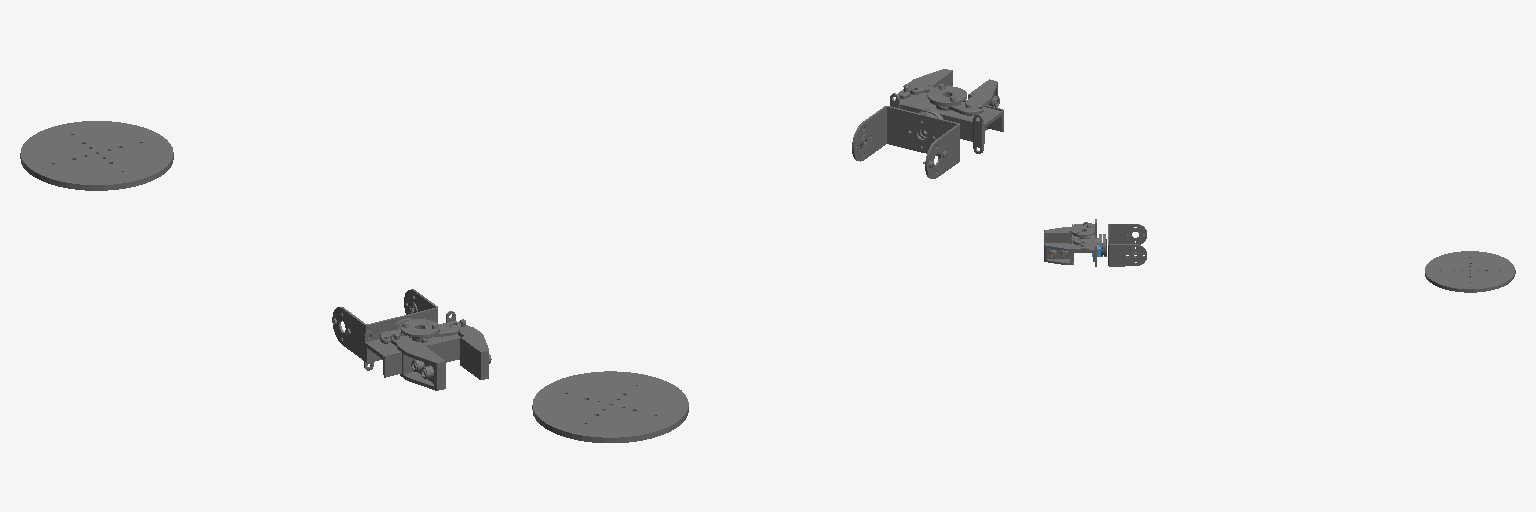
The robot description file, URDF, robot "lynxmotion_al5d":
<?xml version="1.0" ?>
<!-- =================================================================================== -->
<!-- |    This document was autogenerated by xacro from [local-path]/ws_moveit/src/lynxmotion_al5d_description/urdf/lynxmotion_al5d.xacro | -->
<!-- |    EDITING THIS FILE BY HAND IS NOT RECOMMENDED                                 | -->
<!-- =================================================================================== -->
<robot name="lynxmotion_al5d">
    <!-- Include materials -->
    <material name="Black">
        <color rgba="0.0 0.0 0.0 1.0" />
    </material>
    <material name="Green">
        <color rgba="0.0 1.0 0.0 1.0" />
    </material>
    <material name="white">
        <color rgba="1 1 1 1" />
    </material>
    <material name="Silver">
        <color rgba="0.8 0.8 0.8 1" />
    </material>
    <material name="BlueGrey">
        <color rgba="0.004 0.34 0.61 1.0" />
    </material>
    <material name="Transparent">
        <color rgba="0.0 0.0 0.0 0.0" />
    </material>
    <!-- Base link comprising the board behind the robot and the cylinder at its bottom -->
    <link name="robot_support">
        <visual>
            <geometry>
                <mesh filename="package://lynxmotion_al5d_description/meshes/robot_parts/support.dae" />
            </geometry>
            <origin rpy="0 0 0" xyz="0 0 0" />
        </visual>
        <collision>
            <geometry>
                <mesh filename="package://lynxmotion_al5d_description/meshes/robot_parts/support.dae" />
            </geometry>
            <origin rpy="0 0 0" xyz="0 0 0" />
        </collision>
        <inertial>
            <origin rpy="0 0 0" xyz="0.000585 0.0602746 0.0170628" />
            <mass value="23" />
            <inertia ixx="3.6565e-07" ixy="-3.72e-09" ixz="1e-06" iyy="9.404e-08" iyz="4.375e-08" izz="4.1776e-07" />
        </inertial>
    </link>
    <gazebo reference="robot_support" />
    <link name="robot_base_cylinder">
        <visual>
            <geometry>
                <mesh filename="package://lynxmotion_al5d_description/meshes/robot_parts/rotation_cylinder.dae" />
            </geometry>
            <origin rpy="0 0 0" xyz="0 -0.021 0" />
        </visual>
        <collision>
            <geometry>
                <mesh filename="package://lynxmotion_al5d_description/meshes/robot_parts/rotation_cylinder.dae" />
            </geometry>
            <origin rpy="0 0 0" xyz="0 -0.021 0" />
        </collision>
        <inertial>
            <mass value="0.01" />
            <inertia ixx="1.0" ixy="0.0" ixz="0.0" iyy="0.5" iyz="0.0" izz="1.0" />
            <origin xyz="0 0 0" rpy="0 0 0" />
        </inertial>
    </link>
    <gazebo reference="robot_base_cylinder" />
    <link name="robot_base_top_box">
        <visual>
            <geometry>
                <mesh filename="package://lynxmotion_al5d_description/meshes/robot_parts/top_box.dae" />
            </geometry>
            <origin rpy="0 0 3.14159" xyz="-0.01 0.03 0" />
        </visual>
        <collision>
            <geometry>
                <mesh filename="package://lynxmotion_al5d_description/meshes/robot_parts/top_box.dae" />
            </geometry>
            <origin rpy="0 0 3.14159" xyz="-0.01 0.03 0" />
        </collision>
        <inertial>
            <mass value="1" />
            <inertia ixx="1.0" ixy="0.0" ixz="0.0" iyy="0.5" iyz="0.0" izz="1.0" />
            <origin xyz="0 0 0" rpy="0 0 0" />
        </inertial>
    </link>
    <gazebo reference="robot_base_top_box" />
    <link name="shoulder">
        <visual>
            <geometry>
                <mesh filename="package://lynxmotion_al5d_description/meshes/robot_parts/shoulder.dae" />
            </geometry>
            <origin rpy="-1.96349375 0 0" xyz="0.005 -0.0625 0.036" />
        </visual>
        <collision>
            <geometry>
                <mesh filename="package://lynxmotion_al5d_description/meshes/robot_parts/shoulder.dae" />
            </geometry>
            <origin rpy="-1.96349375 0 0" xyz="0.005 -0.0625 0.036" />
        </collision>
        <inertial>
            <mass value="0.5" />
            <inertia ixx="1.0" ixy="0.0" ixz="0.0" iyy="0.5" iyz="0.0" izz="1.0" />
            <origin xyz="0 0 0" rpy="0 0 0" />
        </inertial>
    </link>
    <gazebo reference="shoulder" />
    <link name="elbow">
        <visual>
            <geometry>
                <mesh filename="package://lynxmotion_al5d_description/meshes/robot_parts/elbow.dae" />
            </geometry>
            <origin rpy="-4.03659 3.14159 0" xyz="-0.006 0.13 -0.16399999999999998" />
        </visual>
        <collision>
            <geometry>
                <mesh filename="package://lynxmotion_al5d_description/meshes/robot_parts/elbow.dae" />
            </geometry>
            <origin rpy="-4.03659 3.14159 0" xyz="-0.005 0.135 -0.16599999999999998 " />
        </collision>
        <inertial>
            <mass value="0.16" />
            <inertia ixx="1.0" ixy="0.0" ixz="0.0" iyy="0.5" iyz="0.0" izz="1.0" />
            <origin xyz="0 0 0" rpy="0 0 0" />
        </inertial>
    </link>
    <gazebo reference="elbow" />
    <link name="wrist">
        <visual>
            <geometry>
                <mesh filename="package://lynxmotion_al5d_description/meshes/robot_parts/wrist.dae" />
            </geometry>
            <origin rpy="3.14159 0 0" xyz="0.005 -0.165 0.0695" />
        </visual>
        <collision>
            <geometry>
                <mesh filename="package://lynxmotion_al5d_description/meshes/robot_parts/wrist.dae" />
            </geometry>
            <origin rpy="3.14159 0 0" xyz="0 -0.165 0.067" />
        </collision>
        <inertial>
            <mass value="0.031" />
            <inertia ixx="1.0" ixy="0.0" ixz="0.0" iyy="0.5" iyz="0.0" izz="1.0" />
            <origin xyz="0 0 0" rpy="0 0 0" />
        </inertial>
    </link>
    <gazebo reference="wrist" />
    <link name="gripper">
        <visual>
            <geometry>
                <mesh filename="package://lynxmotion_al5d_description/meshes/robot_parts/gripper.dae" />
            </geometry>
            <origin rpy="1.570795 0 -1.570795" xyz="0 -0.02 0.0" />
        </visual>
        <collision>
            <geometry>
                <mesh filename="package://lynxmotion_al5d_description/meshes/robot_parts/gripper.dae" />
            </geometry>
            <origin rpy="1.570795 0 -1.570795" xyz="0 -0.02 0" />
            <!---0.021 -0.005" /> -->
        </collision>
        <inertial>
            <mass value="0.042" />
            <inertia ixx="1.0" ixy="0.0" ixz="0.0" iyy="0.5" iyz="0.0" izz="1.0" />
            <origin xyz="0 0 0" rpy="0 0 0" />
        </inertial>
    </link>
    <gazebo reference="gripper" />
    <link name="left_finger">
        <visual>
            <geometry>
                <mesh filename="package://lynxmotion_al5d_description/meshes/robot_parts/finger_left.dae" />
            </geometry>
            <origin rpy="1.570795 0 -1.570795" xyz="0.001 -0.005 0" />
        </visual>
        <collision>
            <geometry>
                <mesh filename="package://lynxmotion_al5d_description/meshes/robot_parts/finger_left.dae" />
            </geometry>
            <origin rpy="1.570795 0 -1.570795" xyz="0.001 -0.005 0" />
        </collision>
        <inertial>
            <mass value="0.002" />
            <inertia ixx="1.0" ixy="0.0" ixz="0.0" iyy="0.5" iyz="0.0" izz="1.0" />
            <origin xyz="0 0 0" rpy="0 0 0" />
        </inertial>
    </link>
    <gazebo reference="left_finger" />
    <link name="right_finger">
        <visual>
            <geometry>
                <mesh filename="package://lynxmotion_al5d_description/meshes/robot_parts/finger_right.dae" />
            </geometry>
            <origin rpy="1.570795 0 -1.570795" xyz="-0.003 -0.005 0" />
        </visual>
        <collision>
            <geometry>
                <mesh filename="package://lynxmotion_al5d_description/meshes/robot_parts/finger_right.dae" />
            </geometry>
            <origin rpy="1.570795 0 -1.570795" xyz="-0.003 -0.005 0" />
        </collision>
        <inertial>
            <mass value="0.002" />
            <inertia ixx="1.0" ixy="0.0" ixz="0.0" iyy="0.5" iyz="0.0" izz="1.0" />
            <origin xyz="0 0 0" rpy="0 0 0" />
        </inertial>
    </link>
    <gazebo reference="right_finger" />
    <!-- Dummy link used for the gripper -->
    <link name="gripper_mov">
        <visual>
            <origin rpy="0 0 0" xyz="0 0 0" />
            <geometry>
                <box size="0.01 0.01 0.01" />
            </geometry>
            <material name="transparent">Gazebo/GreyTransparent</material>
        </visual>
        <collision>
            <origin rpy="0 0 0" xyz="0 0 0" />
            <geometry>
                <box size="0.01 0.01 0.01" />
            </geometry>
        </collision>
        <inertial>
            <mass value="0.01" />
            <inertia ixx="1.666666666666667e-07" ixy="0.0" ixz="0.0" iyy="1.666666666666667e-07" iyz="0.0" izz="1.666666666666667e-07" />
            <origin xyz="0 0 0" rpy="0 0 0" />
        </inertial>
    </link>
    <gazebo reference="gripper_mov" />
    <!-- Adding joints -->
    <joint name="Joint1" type="revolute">
        <parent link="robot_support" />
        <child link="robot_base_cylinder" />
        <axis xyz="0 0 -1" />
        <origin rpy="0 0 3.14159" xyz="0 0.02 0" />
        <limit effort="100" lower="-3.14159" upper="3.14159" velocity="3" />
        <dynamics damping="50.0" friction="1" />
    </joint>
    <joint name="base_to_cylinder" type="fixed">
        <parent link="robot_base_cylinder" />
        <child link="robot_base_top_box" />
        <dynamics damping="1.0" friction="0.8" />
    </joint>
    <joint name="Joint2" type="revolute">
        <parent link="robot_base_top_box" />
        <child link="shoulder" />
        <axis xyz="1 0 0" />
        <origin xyz="0 0.02 0.07" />
        <limit effort="100" lower="0" upper="3.14159" velocity="3" />
        <dynamics damping="1.0" friction="0.8" />
    </joint>
    <joint name="Joint3" type="revolute">
        <parent link="shoulder" />
        <child link="elbow" />
        <axis xyz="1 0 0" />
        <origin xyz="0 0.146 0" />
        <limit effort="100" lower="-3.14159" upper="0" velocity="3" />
        <dynamics damping="1.0" friction="0.8" />
    </joint>
    <joint name="Joint4" type="revolute">
        <parent link="elbow" />
        <child link="wrist" />
        <axis xyz="1 0 0" />
        <origin rpy="0 0 0" xyz="0 0.181 0.005" />
        <limit effort="40" lower="-1.570795" upper="1.570795" velocity="3" />
        <dynamics damping="5.0" friction="0.08" />
    </joint>
    <joint name="Joint5" type="revolute">
        <parent link="wrist" />
        <child link="gripper" />
        <axis xyz="0 -1 0" />
        <origin rpy="0 0 3.14159" xyz="0 0.04 0" />
        <limit effort="100" lower="-3.14159" upper="3.14159" velocity="3" />
        <dynamics damping="1.0" friction="0.8" />
    </joint>
    <joint name="right_finger_joint" type="prismatic">
        <parent link="gripper" />
        <child link="right_finger" />
        <origin xyz="-0.005 -0.015 0" />
        <limit effort="100" lower="0" upper="0.015875" velocity="0.1" />
        <mimic joint="Gripper" multiplier="-0.5" offset="0.015875" />
        <dynamics damping="1.0" friction="0.16" />
    </joint>
    <joint name="left_finger_joint" type="prismatic">
        <parent link="gripper" />
        <child link="left_finger" />
        <origin xyz="0.005 -0.015 0" />
        <axis xyz="-1 0 0" />
        <limit effort="100" lower="0" upper="0.015875" velocity="0.1" />
        <!-- Added an offset to fix issues in Rviz -->
        <mimic joint="right_finger_joint" offset="-0.0025" />
        <dynamics damping="1.0" friction="0.16" />
    </joint>
    <!-- Joint that accept the distance between the two fingers as parameter -->
    <joint name="Gripper" type="prismatic">
        <parent link="gripper" />
        <child link="gripper_mov" />
        <origin xyz="0.01 0  0" />
        <limit effort="10" lower="0" upper="0.03175" velocity="0.1" />
        <axis xyz="-1 0 0" />
        <dynamics damping="5.0" />
        <!-- <dynamics friction="0.42" /> -->
    </joint>
    <transmission name="trans_Joint1">
        <type>transmission_interface/SimpleTransmission</type>
        <joint name="Joint1">
            <hardwareInterface>hardware_interface/PositionJointInterface</hardwareInterface>
        </joint>
        <actuator name="Joint1_motor">
            <hardwareInterface>hardware_interface/PositionJointInterface</hardwareInterface>
            <mechanicalReduction>1</mechanicalReduction>
        </actuator>
    </transmission>
    <transmission name="trans_Joint2">
        <type>transmission_interface/SimpleTransmission</type>
        <joint name="Joint2">
            <hardwareInterface>hardware_interface/PositionJointInterface</hardwareInterface>
        </joint>
        <actuator name="Joint2_motor">
            <hardwareInterface>hardware_interface/PositionJointInterface</hardwareInterface>
            <mechanicalReduction>1</mechanicalReduction>
        </actuator>
    </transmission>
    <transmission name="trans_Joint3">
        <type>transmission_interface/SimpleTransmission</type>
        <joint name="Joint3">
            <hardwareInterface>hardware_interface/PositionJointInterface</hardwareInterface>
        </joint>
        <actuator name="Joint3_motor">
            <hardwareInterface>hardware_interface/PositionJointInterface</hardwareInterface>
            <mechanicalReduction>1</mechanicalReduction>
        </actuator>
    </transmission>
    <transmission name="trans_Joint4">
        <type>transmission_interface/SimpleTransmission</type>
        <joint name="Joint4">
            <hardwareInterface>hardware_interface/PositionJointInterface</hardwareInterface>
        </joint>
        <actuator name="Joint4_motor">
            <hardwareInterface>hardware_interface/PositionJointInterface</hardwareInterface>
            <mechanicalReduction>1</mechanicalReduction>
        </actuator>
    </transmission>
    <transmission name="trans_Joint5">
        <type>transmission_interface/SimpleTransmission</type>
        <joint name="Joint5">
            <hardwareInterface>hardware_interface/PositionJointInterface</hardwareInterface>
        </joint>
        <actuator name="Joint5_motor">
            <hardwareInterface>hardware_interface/PositionJointInterface</hardwareInterface>
            <mechanicalReduction>1</mechanicalReduction>
        </actuator>
    </transmission>
    <transmission name="trans_Gripper">
        <type>transmission_interface/SimpleTransmission</type>
        <joint name="Gripper">
            <hardwareInterface>hardware_interface/PositionJointInterface</hardwareInterface>
        </joint>
        <actuator name="Gripper_motor">
            <hardwareInterface>hardware_interface/PositionJointInterface</hardwareInterface>
            <mechanicalReduction>1</mechanicalReduction>
        </actuator>
    </transmission>
    <!-- Load ros_control -->
    <gazebo>
        <plugin name="gazebo_ros_control" filename="libgazebo_ros_control.so">
            <robotNamespace>/</robotNamespace>
        </plugin>
    </gazebo>
</robot>

--- What the picture shows (computed from the rendered views, not written in the file) ---
The picture shows the robot from 3 angles, left to right: view 1: azimuth 30°, elevation 25°; view 2: azimuth 150°, elevation 25°; view 3: azimuth 270°, elevation 25°; orthographic projection.
Robot: lynxmotion_al5d — 10 links, 9 joints (5 revolute, 3 prismatic, 1 fixed); root link robot_support; default pose: all joints at 0.
Links seen in each view (by area): view 1: robot_base_cylinder, gripper, wrist, right_finger, left_finger; view 2: robot_base_cylinder, wrist, gripper, right_finger, left_finger; view 3: robot_base_cylinder, wrist, gripper, left_finger.
Boxes of the visible links, bbox=[...] form: robot_base_cylinder: bbox=[20, 121, 173, 190]; gripper: bbox=[364, 311, 459, 377]; wrist: bbox=[332, 289, 437, 360]; right_finger: bbox=[391, 333, 445, 390]; left_finger: bbox=[456, 319, 491, 379]; robot_base_cylinder: bbox=[532, 371, 688, 442]; wrist: bbox=[852, 106, 959, 178]; gripper: bbox=[890, 84, 1003, 153]; right_finger: bbox=[965, 79, 999, 130]; left_finger: bbox=[898, 69, 952, 98]; robot_base_cylinder: bbox=[1425, 251, 1515, 292]; wrist: bbox=[1099, 224, 1146, 266]; gripper: bbox=[1072, 219, 1098, 266]; left_finger: bbox=[1044, 243, 1088, 264].
Bounding box of the posed robot: 0.0937 × 0.4881 × 0.0561 m (x, y, z).
5 mesh visuals loaded from 9 distinct referenced files (5 Collada DAE); not drawn: 4 (reference not matched to a file when rendering).